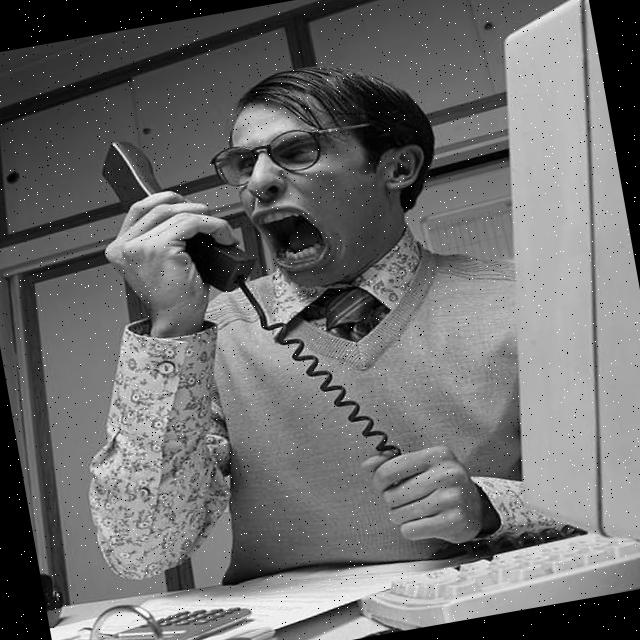Angry: (224, 85, 400, 298)
